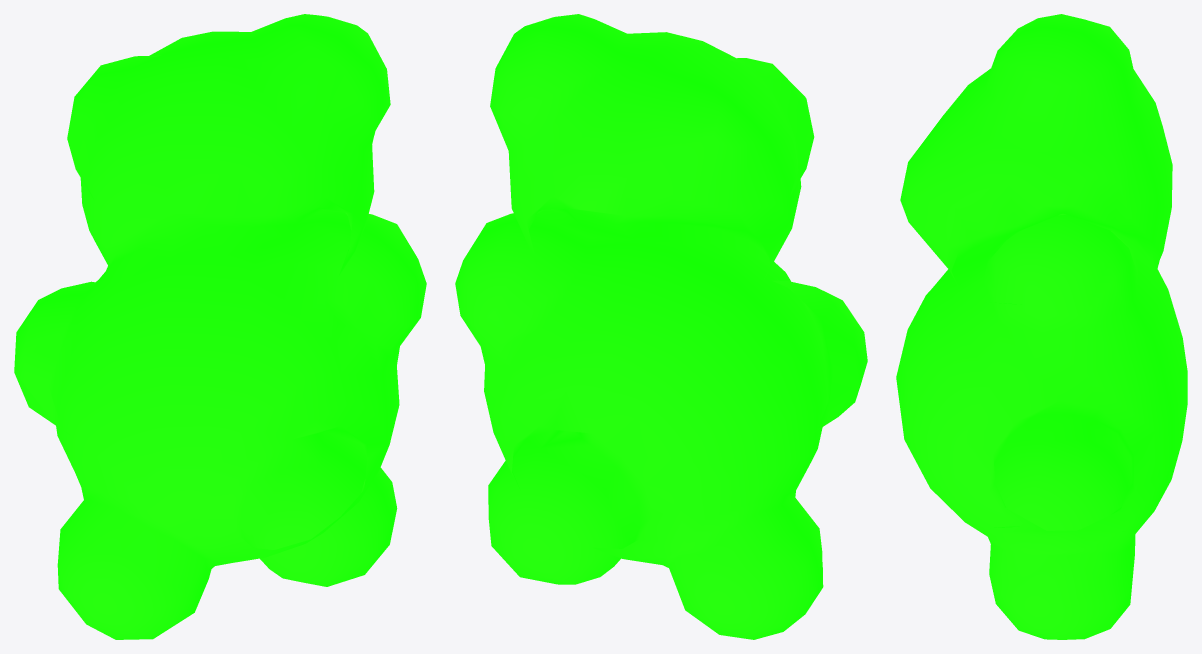
Rendered from STRAWBERRY.glb.
3 views of the same model, side by side, from view 1: azimuth 30°, elevation 25°; view 2: azimuth 150°, elevation 25°; view 3: azimuth 270°, elevation 25° (orthographic). The views are drawn at different scales.
Visible parts, largest first — view 1: Sphere.008; view 2: Sphere.008; view 3: Sphere.008.
Boxes of the visible parts, x1,y1,x2,y2 form: Sphere.008: (14, 14, 426, 639); Sphere.008: (455, 14, 867, 639); Sphere.008: (896, 14, 1187, 639).
Bounding box in the file's own units: 2.41 × 3.37 × 1.64.
